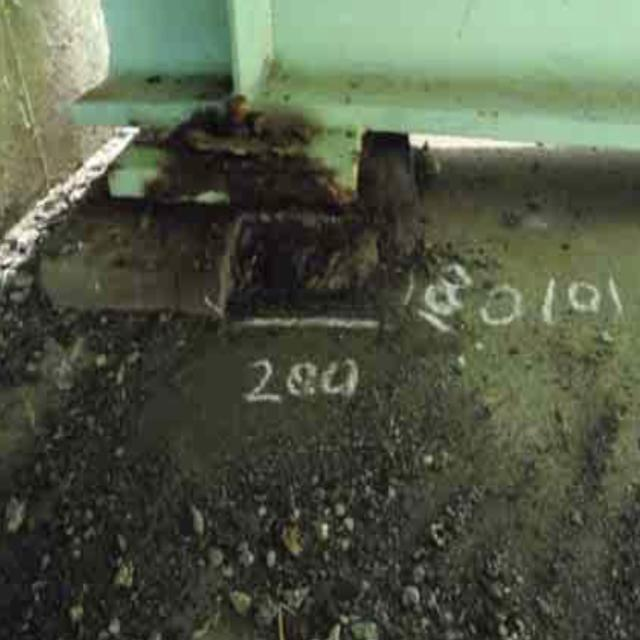corrosion: (143, 100, 437, 309)
